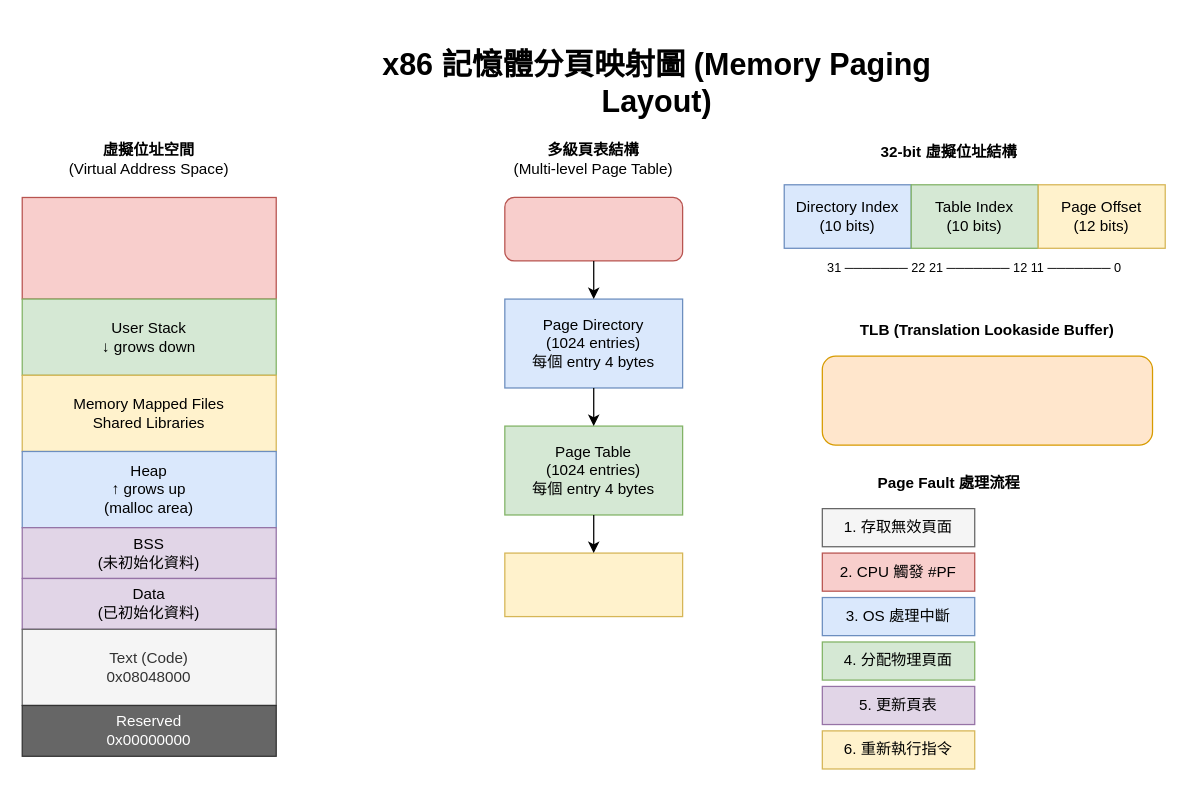
Image size: 1187x791. Some labels were removed from this diagram. Each missing label, with the centre of its shape:
"CR3 Page Directory Base" goes at (x=593, y=228).
"Kernel Space 0xC0000000 - 0xFFFFFFFF (1 GB)" goes at (x=148, y=247).
"Physical Page 4 KB" goes at (x=593, y=584).
"快取最近使用的頁表項 避免每次都查詢多級頁表 TLB Miss → 查詢頁表 → 更新 TLB" goes at (x=987, y=400).
